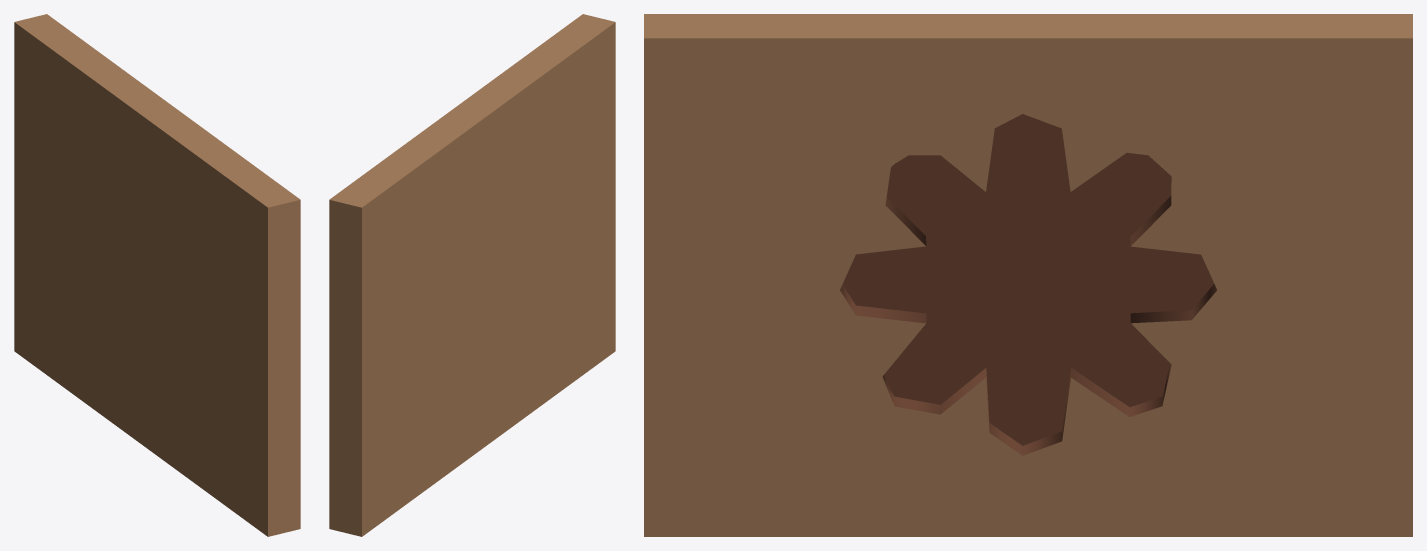
Rendered from SignSnow.glb.
The picture shows the model from 3 angles, left to right: view 1: azimuth 30°, elevation 25°; view 2: azimuth 150°, elevation 25°; view 3: azimuth 270°, elevation 25°; orthographic projection. The views are drawn at different scales.
Parts seen in each view (by area): view 1: Cube.001; view 2: Cube.001; view 3: Cube.001.
Part boxes in pixels (bbox=[...]): Cube.001: bbox=[14, 14, 300, 536]; Cube.001: bbox=[329, 14, 615, 536]; Cube.001: bbox=[644, 14, 1412, 536].
Bounding box in the file's own units: 0.1224 × 1.18 × 1.64.
